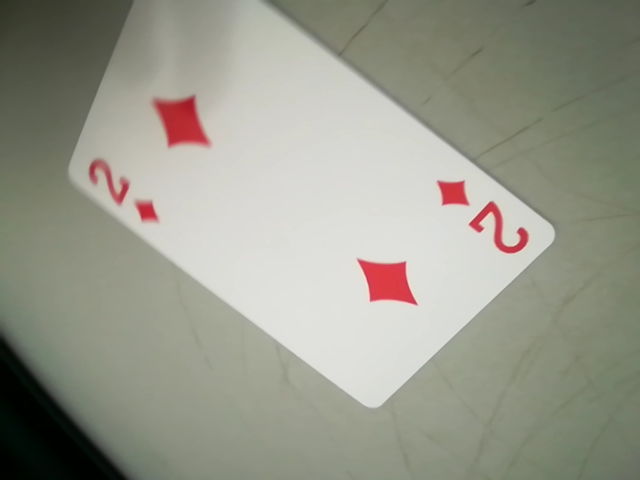fk 2: (436, 175, 531, 263), (73, 147, 168, 230)
